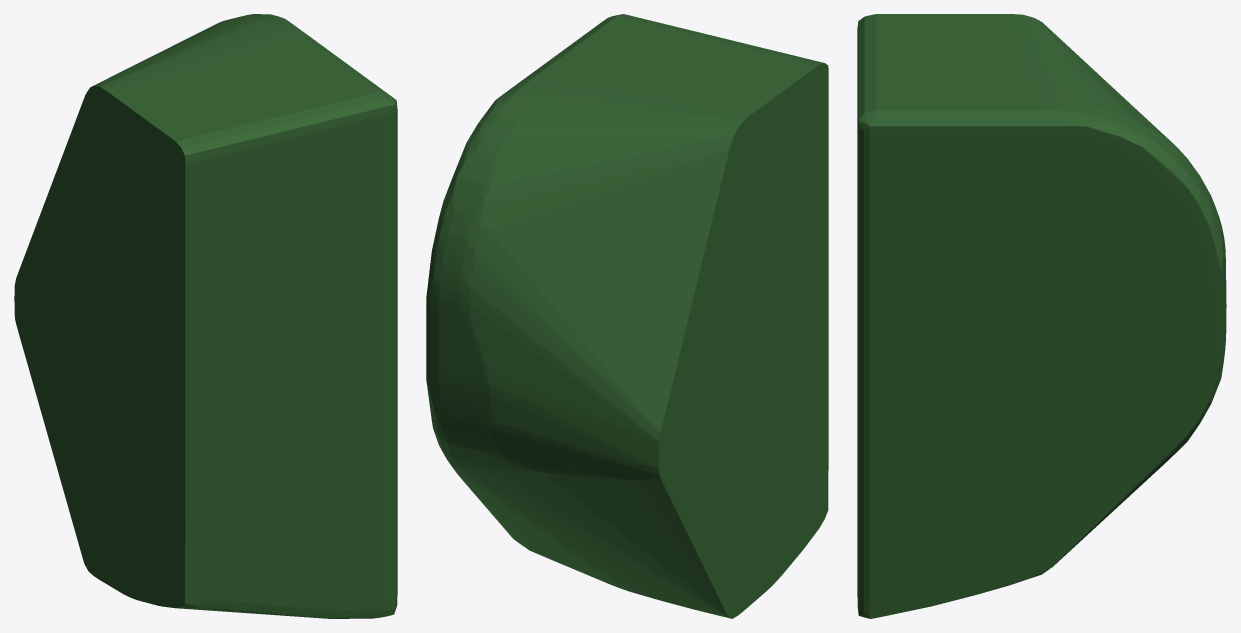
Rendered from right_palm_part_19.obj.
3 views of the same model, side by side, from view 1: azimuth 30°, elevation 25°; view 2: azimuth 150°, elevation 25°; view 3: azimuth 270°, elevation 25° (orthographic). The views are drawn at different scales.
Size of the model in its own units: 15.72 by 35.79 by 23.74.
